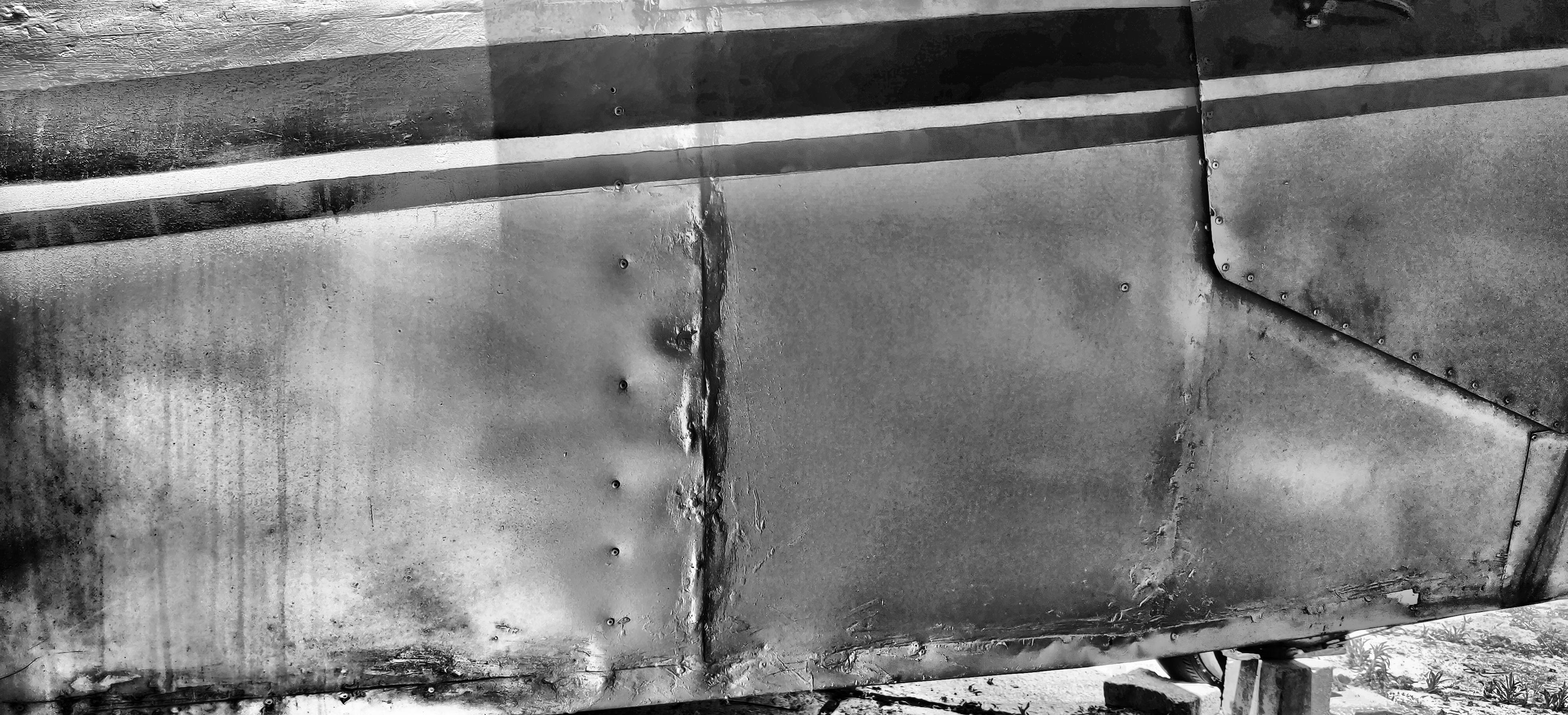dent: (1081, 631, 1139, 668), (1157, 620, 1229, 640)
missing-head: (1107, 637, 1112, 647)
paint-peel-off: (87, 674, 248, 707), (1385, 587, 1421, 608), (57, 695, 80, 713)
scratch: (0, 656, 41, 680)
